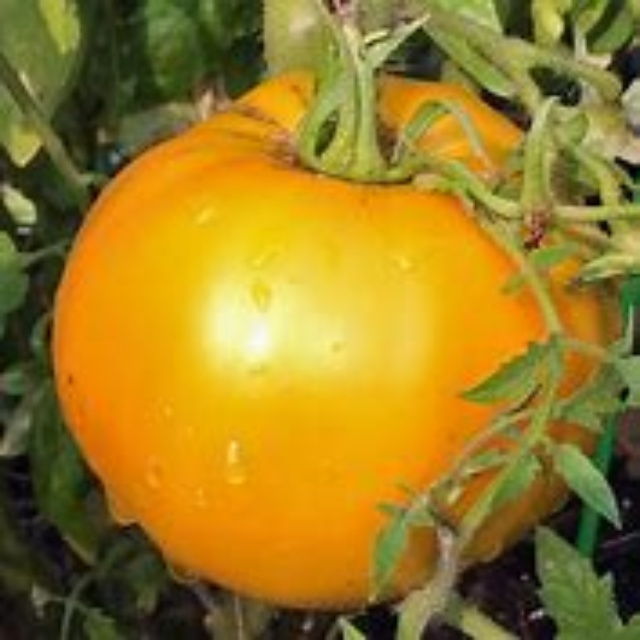tomato: (38, 68, 605, 606)
